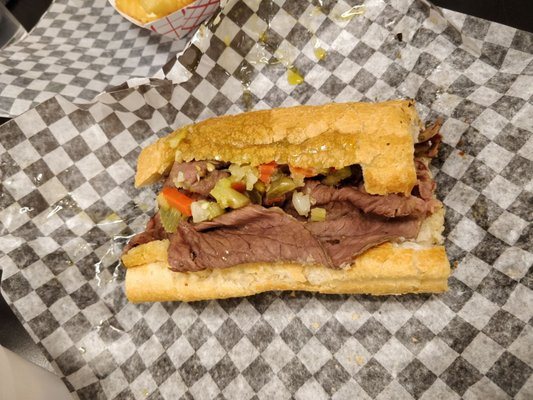soup: (119, 99, 451, 304)
